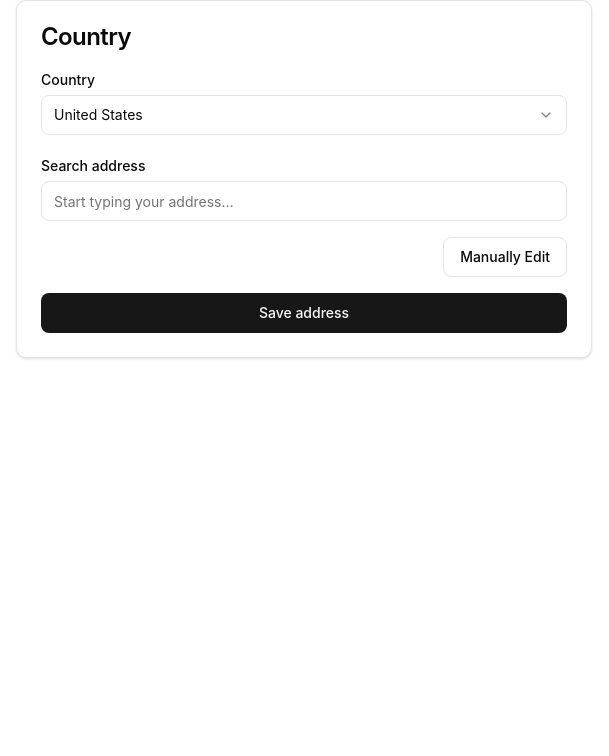
Scenario: AddressForm — manual mode renders the right fields per country (US2) › renders the USA field set
What coordinates should you click on to do the following:
click the button "Manually Edit"
I would click on:
 (505, 257)
Its box is x1=443 y1=237 x2=567 y2=277.
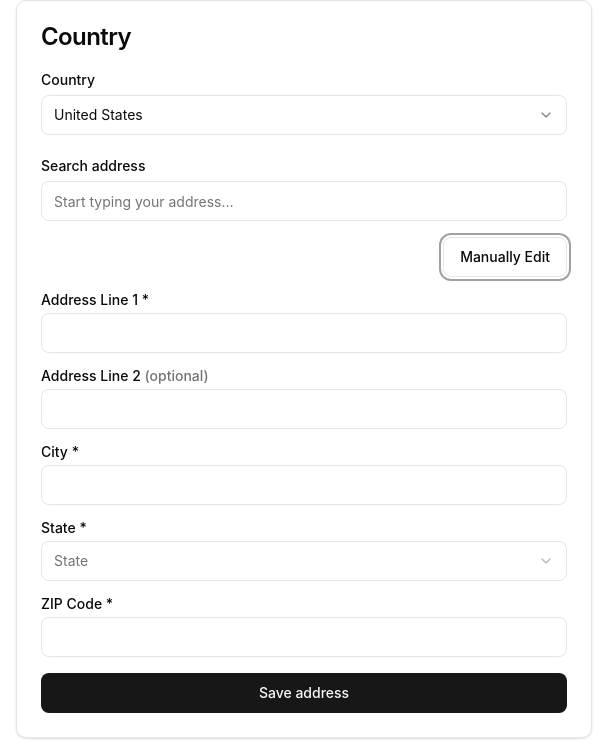
Now the field labelled "Address Line 1 *" is shown, box x1=41 y1=313 x2=567 y2=353
Now the field labelled "City *" is shown, box x1=41 y1=465 x2=567 y2=505
Now the dropdown labelled "State" is shown, box x1=41 y1=541 x2=567 y2=581
